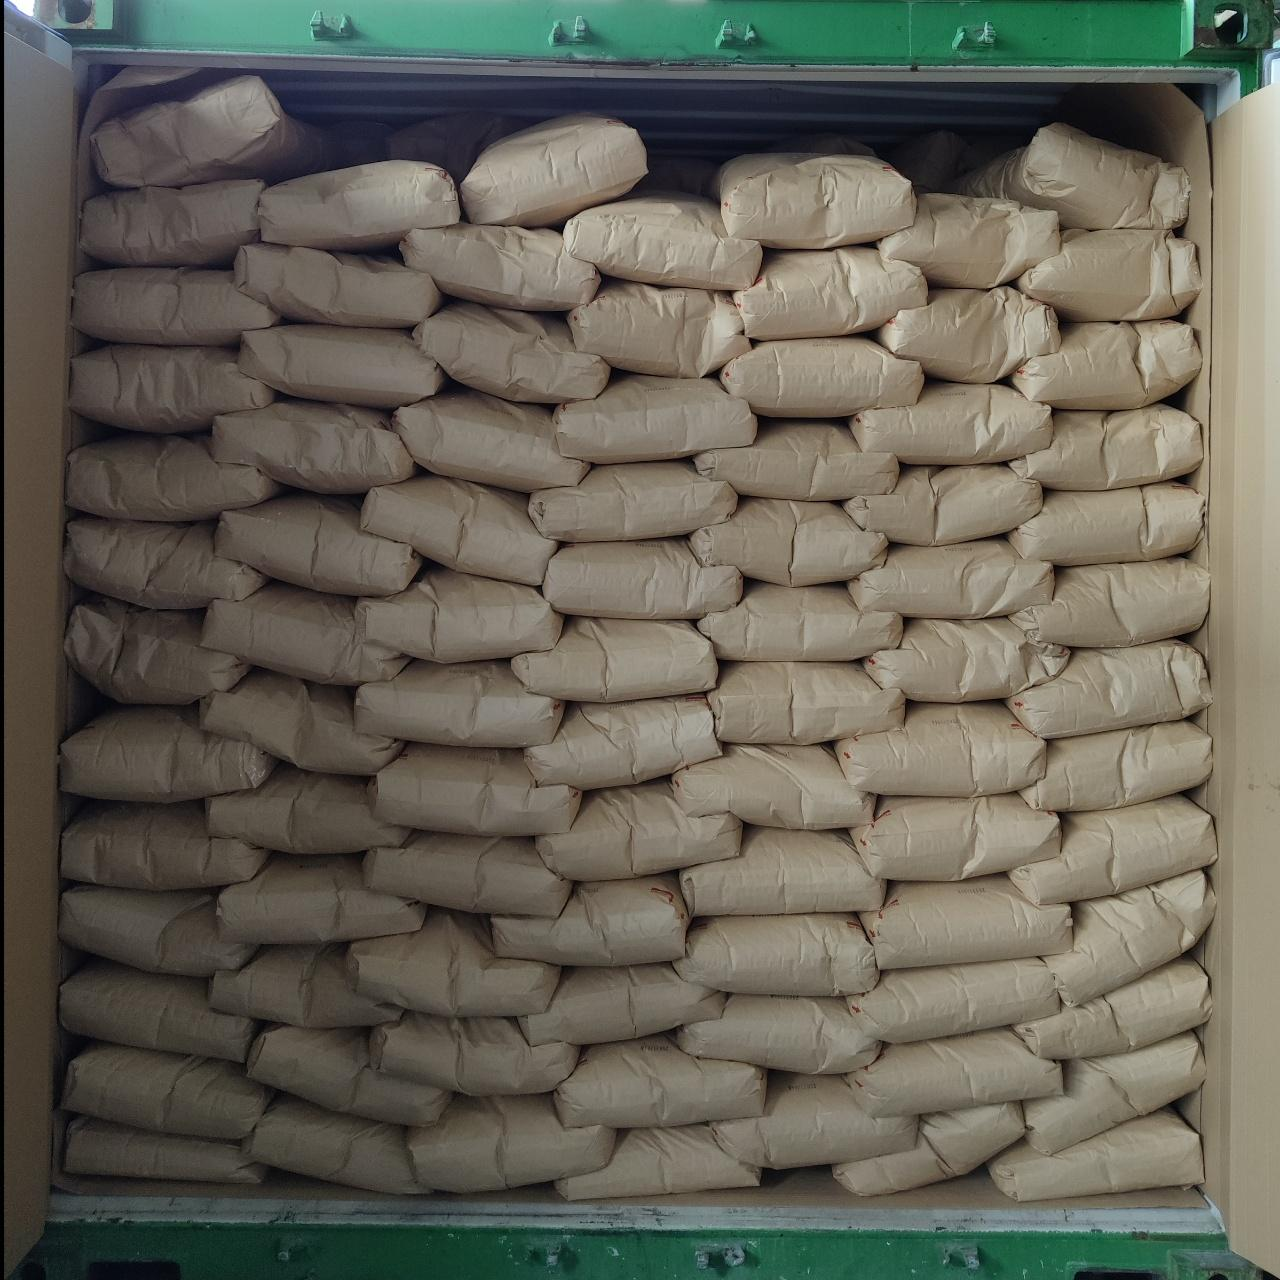sack: (90, 75, 328, 188), (958, 123, 1188, 229), (347, 908, 559, 1016), (1045, 870, 1214, 1005), (1008, 796, 1216, 905), (1023, 1031, 1205, 1153), (199, 669, 403, 774), (361, 476, 557, 584), (215, 492, 420, 595), (60, 706, 276, 803), (200, 582, 401, 685), (461, 115, 647, 225), (391, 389, 589, 492), (989, 1106, 1202, 1201), (60, 959, 258, 1061), (537, 779, 741, 878), (1007, 640, 1211, 739), (355, 565, 563, 662), (63, 1043, 272, 1139), (407, 1095, 616, 1191), (835, 702, 1045, 797), (248, 1026, 450, 1124), (413, 302, 609, 403), (862, 875, 1072, 969), (554, 1034, 766, 1127), (842, 1027, 1061, 1117), (712, 1072, 917, 1168), (1012, 959, 1210, 1058), (209, 399, 415, 493), (64, 598, 248, 703), (371, 743, 581, 835), (564, 193, 762, 289), (65, 433, 284, 519), (717, 153, 915, 248), (63, 517, 265, 608), (681, 826, 885, 916), (525, 695, 720, 789), (354, 660, 564, 747), (242, 1094, 427, 1192), (218, 855, 424, 943), (492, 874, 689, 966), (847, 958, 1060, 1043), (257, 161, 460, 250), (850, 794, 1060, 880), (734, 246, 928, 339), (59, 885, 257, 976), (833, 1101, 1022, 1196), (552, 375, 756, 463), (875, 286, 1060, 383), (61, 802, 267, 889), (567, 278, 748, 377), (206, 765, 409, 853), (237, 324, 446, 409), (1009, 558, 1208, 647), (369, 1012, 579, 1096), (69, 346, 274, 432), (363, 832, 570, 917), (512, 617, 717, 702), (400, 223, 599, 310), (671, 745, 874, 830), (235, 243, 440, 327), (1019, 722, 1212, 811), (863, 619, 1069, 702), (690, 499, 887, 585), (672, 914, 878, 996), (1017, 230, 1202, 321), (719, 335, 924, 417), (877, 195, 1059, 287), (520, 962, 724, 1044), (529, 461, 738, 541), (1011, 321, 1201, 408), (542, 538, 742, 620), (79, 179, 265, 267), (698, 581, 902, 661), (705, 662, 904, 744), (1010, 482, 1204, 566), (696, 420, 899, 500), (850, 383, 1052, 463), (1010, 406, 1202, 490), (850, 539, 1053, 618), (73, 268, 280, 345), (209, 944, 401, 1027), (678, 994, 878, 1073), (846, 465, 1042, 545), (555, 1125, 760, 1200), (64, 1118, 265, 1182)
